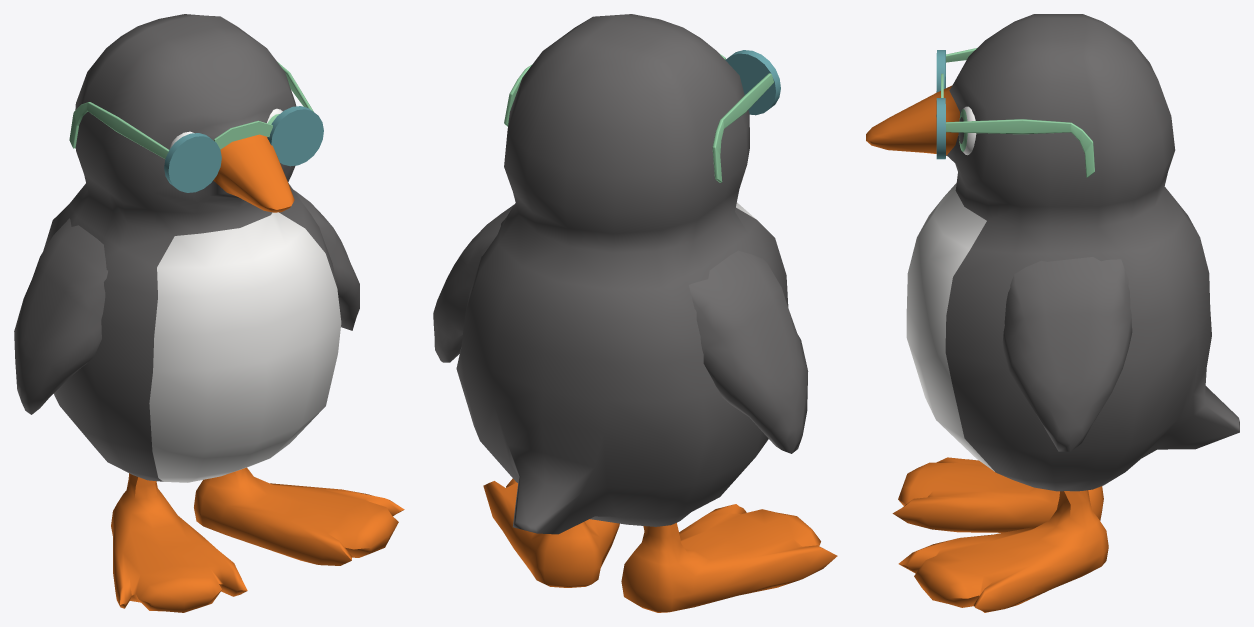
Rendered from Penguin_4_231109.glb.
3 views of the same model, side by side, from view 1: azimuth 30°, elevation 25°; view 2: azimuth 150°, elevation 25°; view 3: azimuth 270°, elevation 25° (orthographic). The views are drawn at different scales.
Parts seen in each view (by area): view 1: Penguin_4; view 2: Penguin_4; view 3: Penguin_4.
Boxes of the visible parts, box(x1,y1,x2,y2) form: Penguin_4: box(14, 14, 404, 612); Penguin_4: box(433, 14, 837, 612); Penguin_4: box(866, 14, 1239, 612).
Size of the model in its own units: 0.8287 by 1.21 by 0.7969.
Materials: 1 (1 with a texture image).
